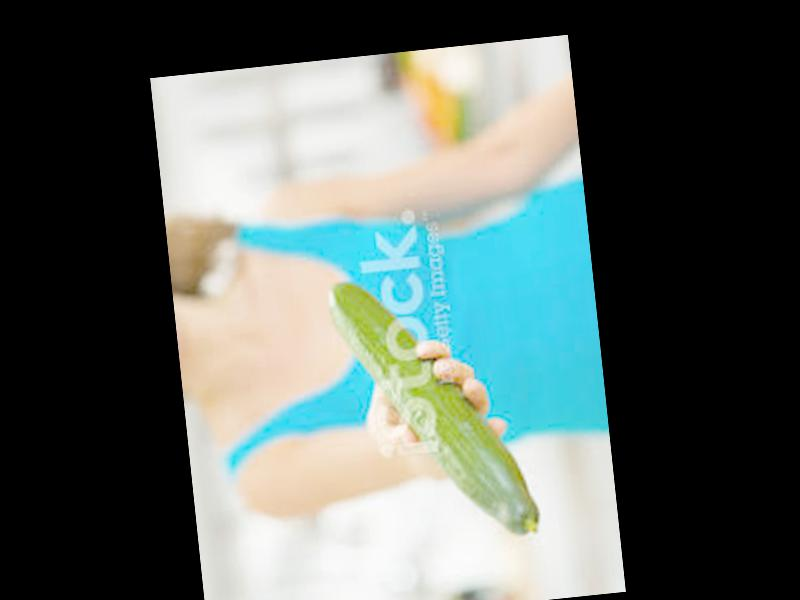Cucumber: (326, 263, 542, 551)
